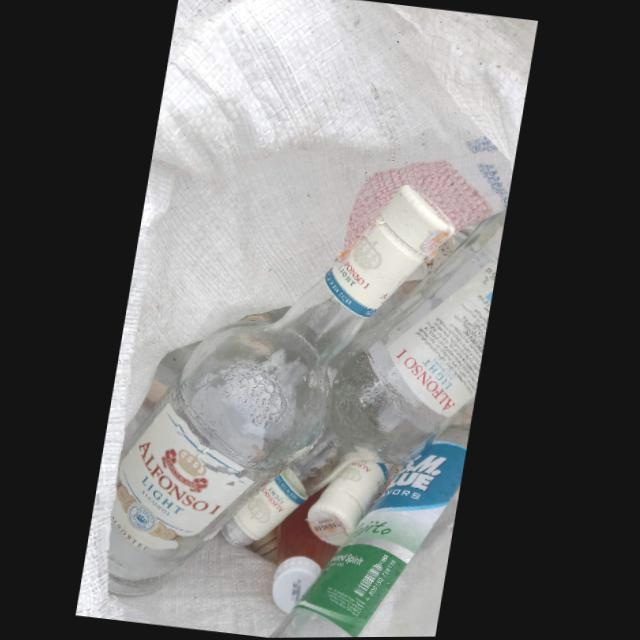glass_bottle: (112, 187, 456, 603), (223, 212, 507, 548), (273, 395, 478, 638), (276, 487, 342, 615)
